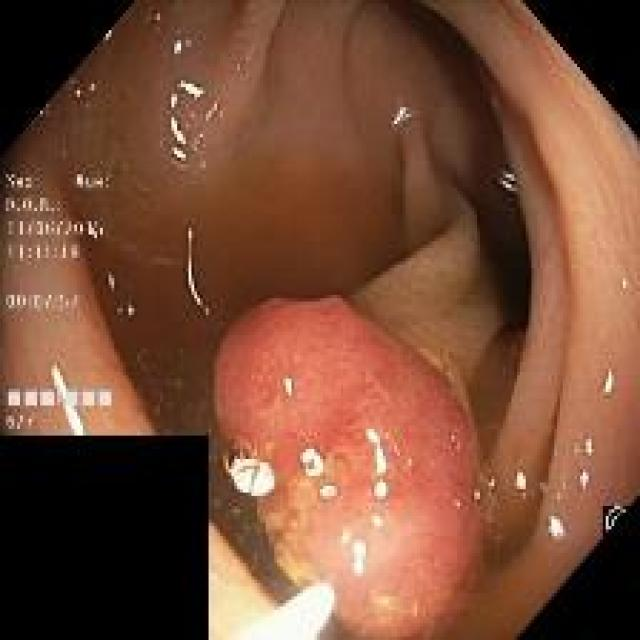Polyps: (215, 298, 486, 638)
